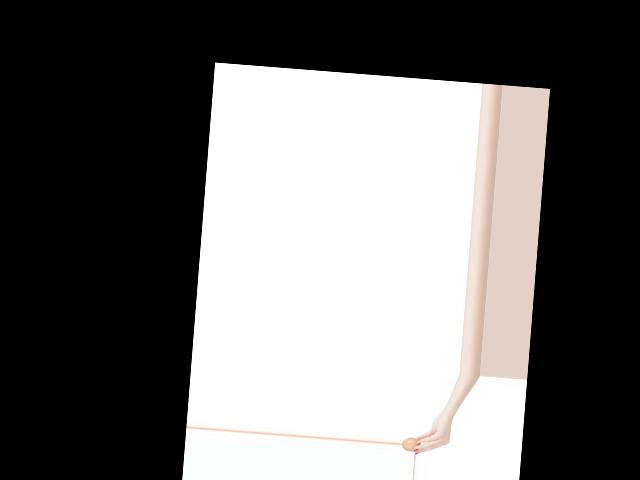egg: (402, 436, 420, 452)
